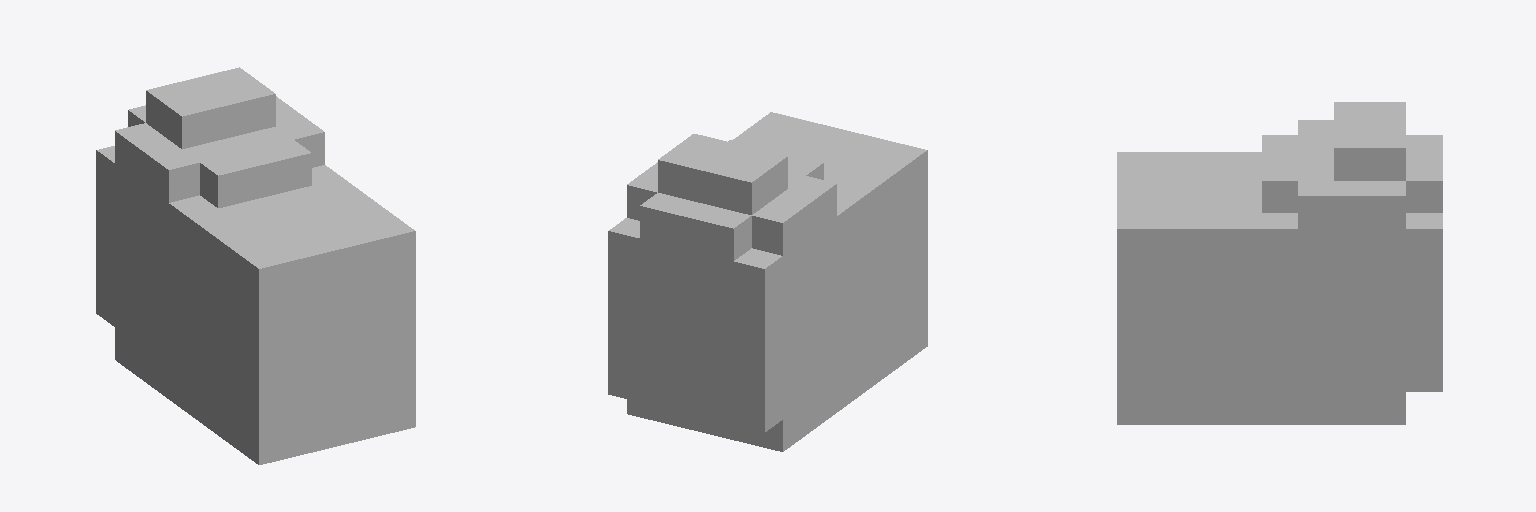
The model's file is Body.obj.
3 renders of one model, left to right at view 1: azimuth 30°, elevation 25°; view 2: azimuth 150°, elevation 25°; view 3: azimuth 270°, elevation 25°, orthographic.
Parts seen in each view (by area): view 1: object 1; view 2: object 1; view 3: object 1.
Part boxes in pixels (x1,y1,x2,y2): object 1: (96, 67, 415, 464); object 1: (608, 112, 927, 451); object 1: (1117, 102, 1442, 424).
Bounding box in the file's own units: 0.5 × 0.8 × 0.9.